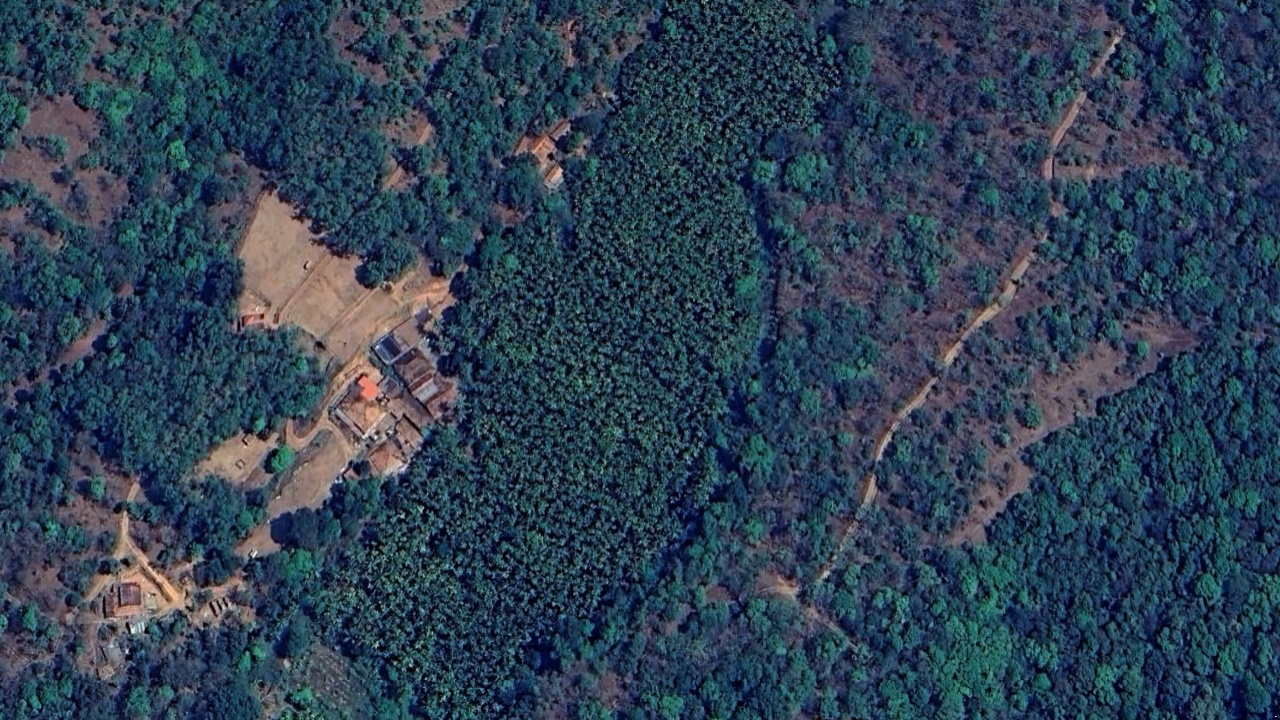arecanut: (334, 1, 834, 708)
